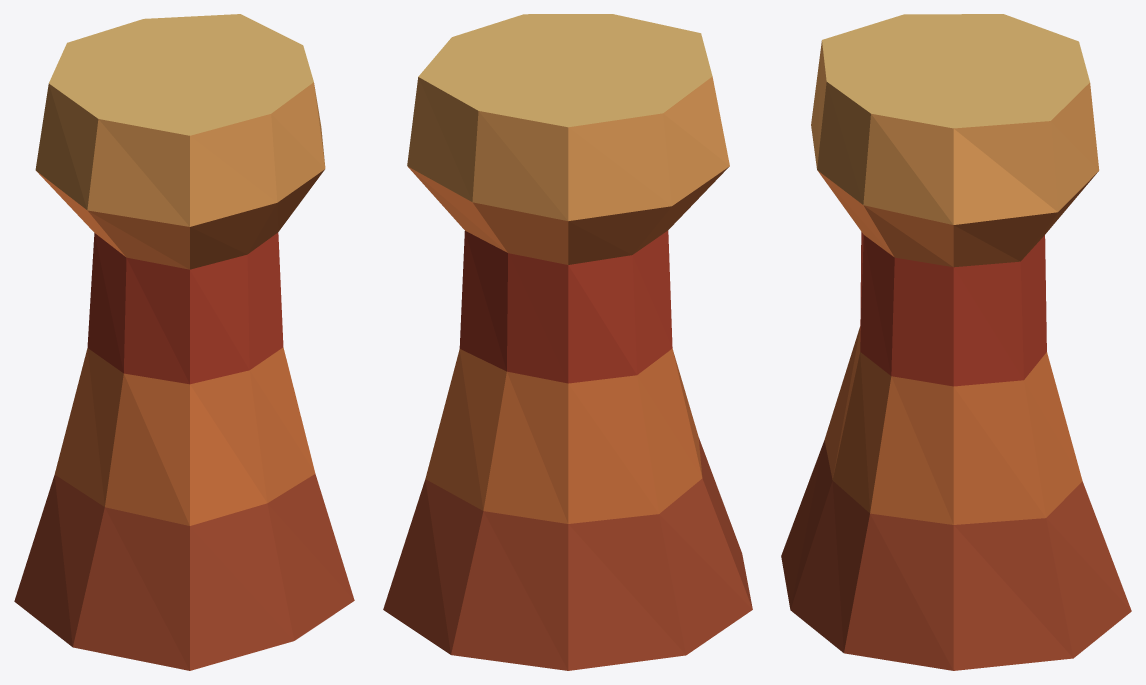
File: CA_Pilar_Roca_Alto.obj
3 views of the same model, side by side, from view 1: azimuth 30°, elevation 25°; view 2: azimuth 150°, elevation 25°; view 3: azimuth 270°, elevation 25° (orthographic). The views are drawn at different scales.
Parts seen in each view (by area): view 1: CA_Pilar_Roca_Alto; view 2: CA_Pilar_Roca_Alto; view 3: CA_Pilar_Roca_Alto.
Boxes of the visible parts, x1,y1,x2,y2 form: CA_Pilar_Roca_Alto: (14, 14, 354, 670); CA_Pilar_Roca_Alto: (383, 14, 752, 670); CA_Pilar_Roca_Alto: (781, 14, 1131, 670).
Bounding box in the file's own units: 3.23 × 5.4 × 3.26.
